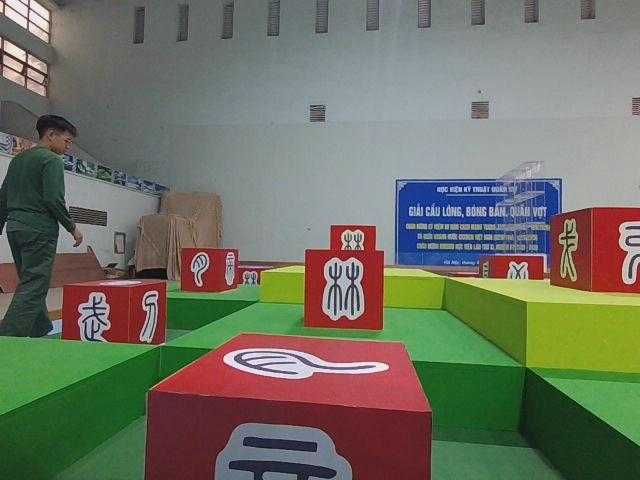R2 Fake: (142, 329, 435, 480), (59, 276, 169, 354), (547, 203, 640, 295), (302, 245, 386, 332), (179, 244, 239, 295)
